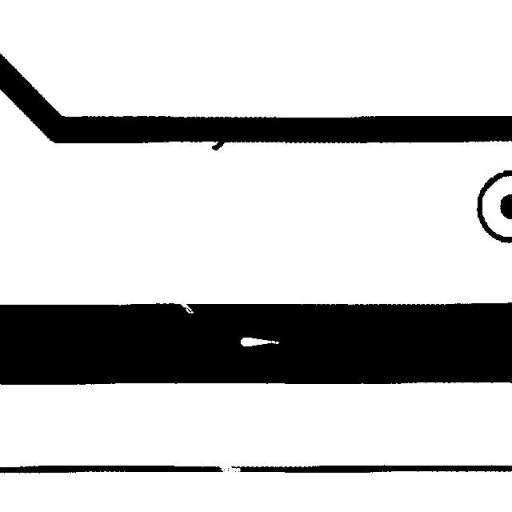mousebite: (172, 292, 201, 321)
open: (211, 457, 248, 485)
pin-hole: (233, 330, 286, 354)
spur: (204, 131, 235, 158)
